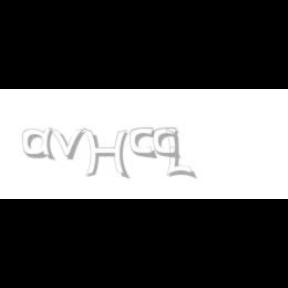H: (83, 128, 129, 180)
L: (165, 128, 193, 180)
a: (22, 128, 60, 160)
c: (153, 128, 182, 160), (130, 128, 158, 160)
v: (49, 128, 89, 160)
